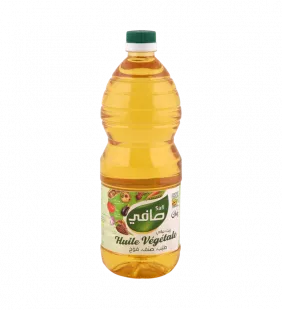SAFI: (91, 20, 189, 284)
